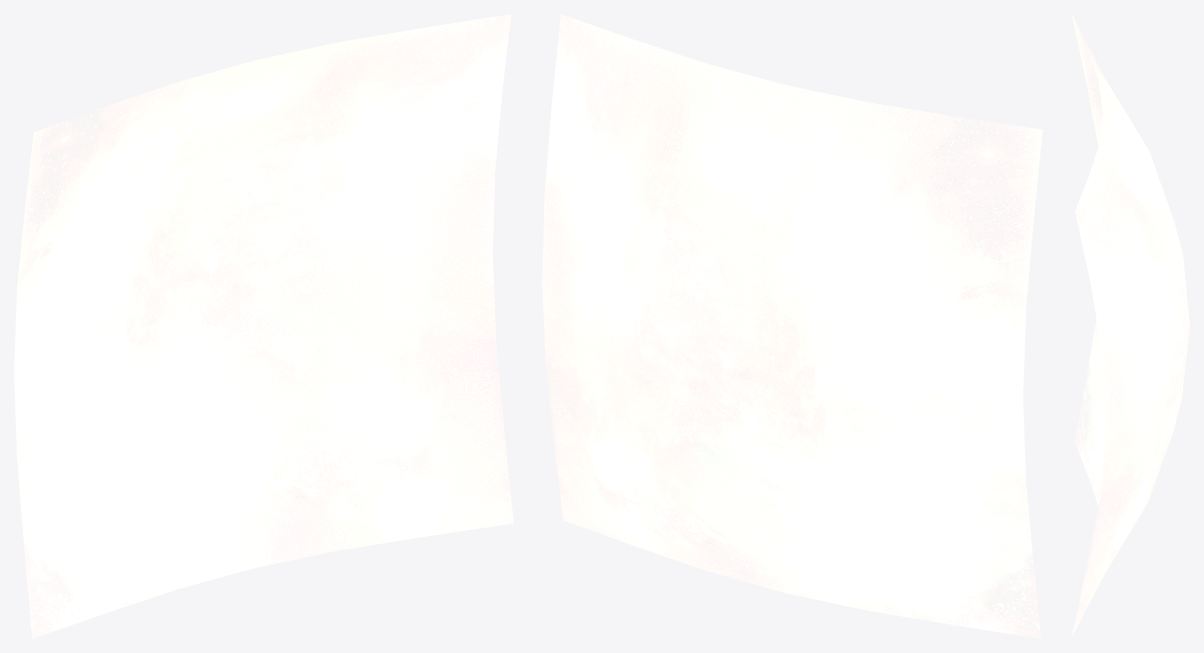
Rendered from bg_mantis5_3db.gltf.
3 views of the same model, side by side, from view 1: azimuth 30°, elevation 25°; view 2: azimuth 150°, elevation 25°; view 3: azimuth 270°, elevation 25° (orthographic). The views are drawn at different scales.
Parts seen in each view (by area): view 1: bg_mantis5.3db; view 2: bg_mantis5.3db; view 3: bg_mantis5.3db.
Part boxes in pixels (<box>): bg_mantis5.3db: <box>14,14,513,638</box>; bg_mantis5.3db: <box>542,14,1042,638</box>; bg_mantis5.3db: <box>1071,15,1189,637</box>.
Bounding box in the file's own units: 73.75 × 74.6 × 18.8.
Materials: 4 (4 with a texture image).
